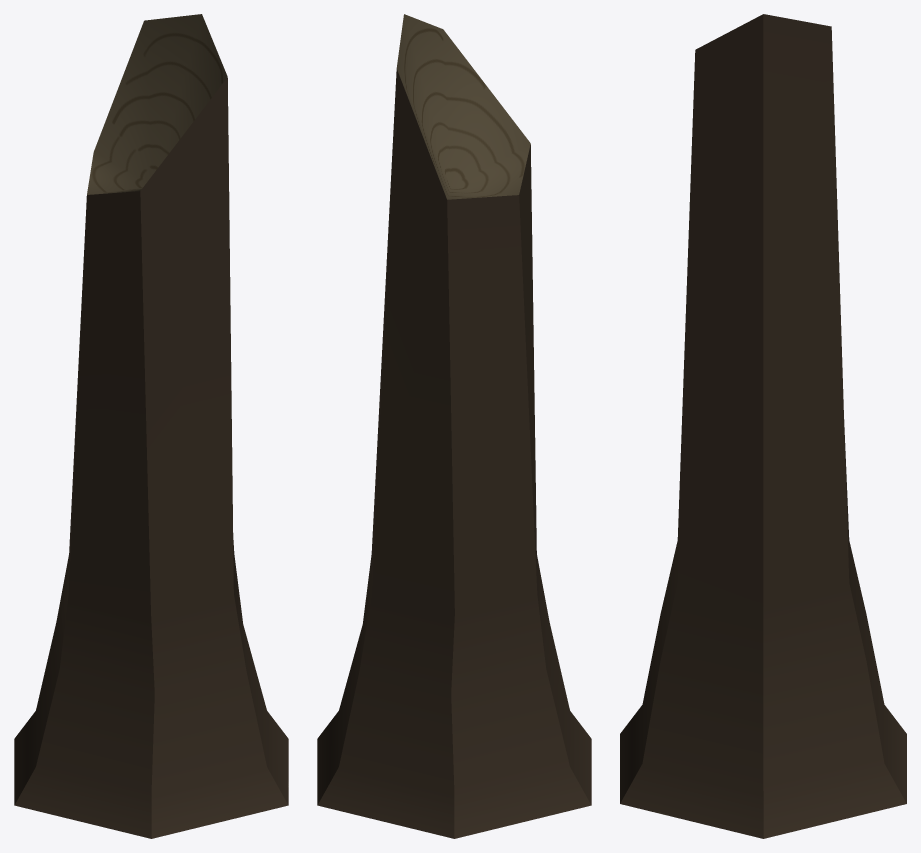
Rendered from dead_tree_1_model.fbx.
The picture shows the model from 3 angles, left to right: view 1: azimuth 30°, elevation 25°; view 2: azimuth 150°, elevation 25°; view 3: azimuth 270°, elevation 25°; orthographic projection. The views are drawn at different scales.
Visible parts, largest first — view 1: pCylinder1; view 2: pCylinder1; view 3: pCylinder1.
Part boxes in pixels (bbox=[...]): pCylinder1: bbox=[14, 14, 288, 838]; pCylinder1: bbox=[317, 14, 591, 838]; pCylinder1: bbox=[620, 14, 906, 838].
Bounding box in the file's own units: 2.71 × 7.04 × 2.35.
Materials: 1 (1 with a texture image).
